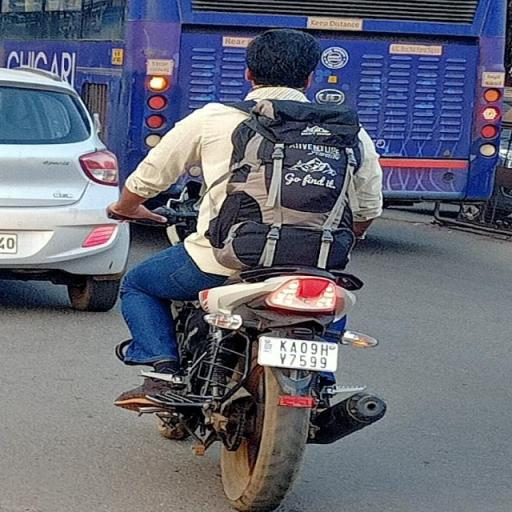bike: (112, 24, 394, 512)
numberplate: (262, 336, 339, 376)
withouthelmet: (248, 30, 318, 88)
